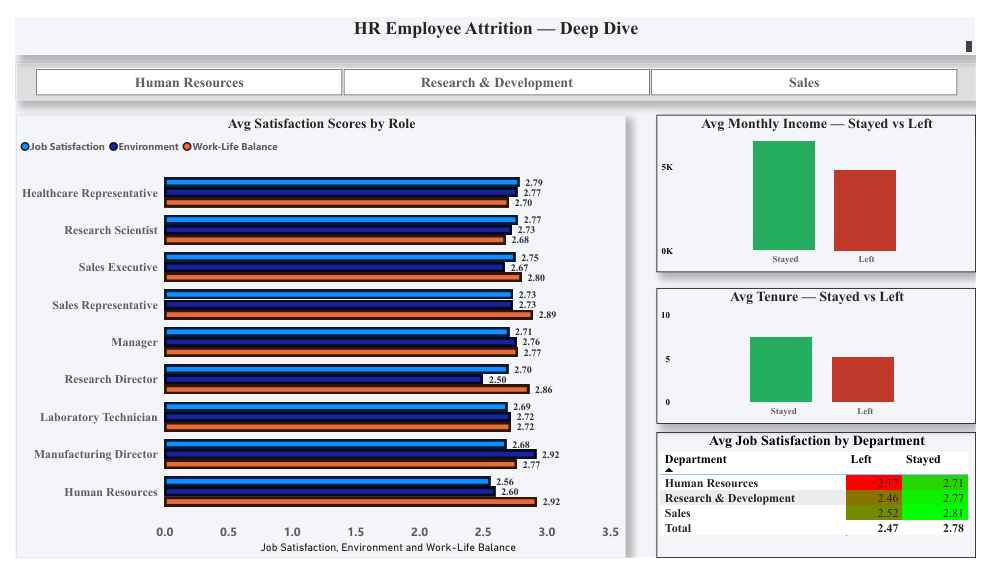

What the dashboard file says about the page in this screenshot:
{"tool":"powerbi","page":{"name":"Deep Dive","canvas":[1280,720],"ordinal":1},"visuals":[{"type":"clusteredBarChart","title":"Avg Satisfaction Scores by Role","fields":{"Category":["HR_EMPLOYEE.JobRole"],"Y":["Measures_.Avg_Job_Satisfaction","Measures_.Avg_Environment_Satisfaction","Measures_.Avg_WorkLife_Balance"]},"box":[0,129.3,812.6,590.7],"z":0},{"type":"clusteredColumnChart","title":"Avg Monthly Income — Stayed vs Left","fields":{"Y":["Avg(HR_EMPLOYEE.MonthlyIncome)"],"Category":["HR_EMPLOYEE.Attrition Label"]},"box":[853.7,129.3,426.1,210.1],"z":1000},{"type":"clusteredColumnChart","title":"Avg Tenure — Stayed vs Left","fields":{"Y":["Avg(HR_EMPLOYEE.YearsAtCompany)"],"Category":["HR_EMPLOYEE.Attrition Label"]},"box":[853.7,360,426.1,180.7],"z":2000},{"type":"pivotTable","title":"Avg Job Satisfaction by Department","fields":{"Columns":["HR_EMPLOYEE.Attrition Label"],"Rows":["HR_EMPLOYEE.Department"],"Values":["Measures_.Avg_Job_Satisfaction"]},"box":[853.7,552.5,426.1,167.5],"z":3000},{"type":"slicer","fields":{"Values":["HR_EMPLOYEE.Department"]},"box":[0,60,1280,50],"z":4000},{"type":"textbox","title":"HR Employee Attrition — Deep Dive","box":[0,0,1280,50],"z":5000}]}

Visuals, with their boxes in screenshot pixels (x1, y1, x2, y2), scaled from the page's 1280x720 canvas onto the 994x573 screenshot:
"Avg Satisfaction Scores by Role" clusteredBarChart: BBox(0, 103, 631, 572)
"Avg Monthly Income — Stayed vs Left" clusteredColumnChart: BBox(663, 103, 993, 270)
"Avg Tenure — Stayed vs Left" clusteredColumnChart: BBox(663, 286, 993, 430)
"Avg Job Satisfaction by Department" pivotTable: BBox(663, 440, 993, 572)
slicer - HR_EMPLOYEE.Department: BBox(0, 48, 993, 88)
"HR Employee Attrition — Deep Dive" textbox: BBox(0, 0, 993, 40)
